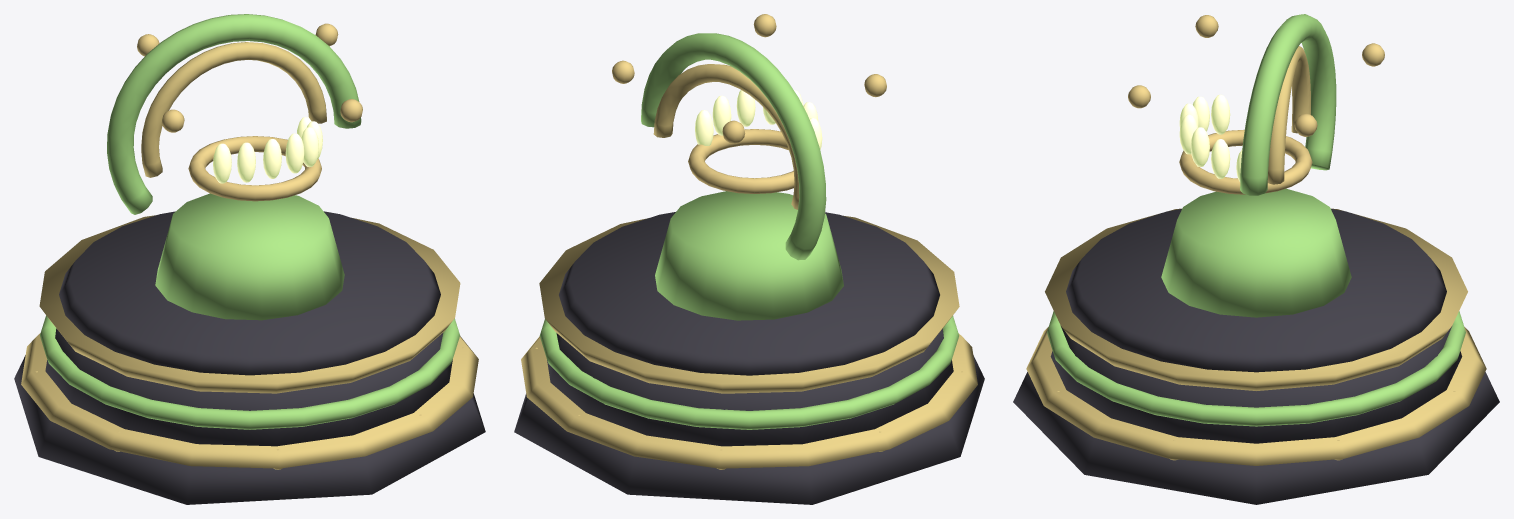
3 renders of one model, left to right at view 1: azimuth 30°, elevation 25°; view 2: azimuth 150°, elevation 25°; view 3: azimuth 270°, elevation 25°, orthographic.
Visible parts, largest first — view 1: FA-002_Titania; view 2: FA-002_Titania; view 3: FA-002_Titania.
Part boxes in pixels (x1,y1,x2,y2): FA-002_Titania: [14, 14, 485, 504]; FA-002_Titania: [514, 14, 984, 504]; FA-002_Titania: [1013, 14, 1499, 504].
Bounding box in the file's own units: 0.92 × 0.7859 × 0.92.
